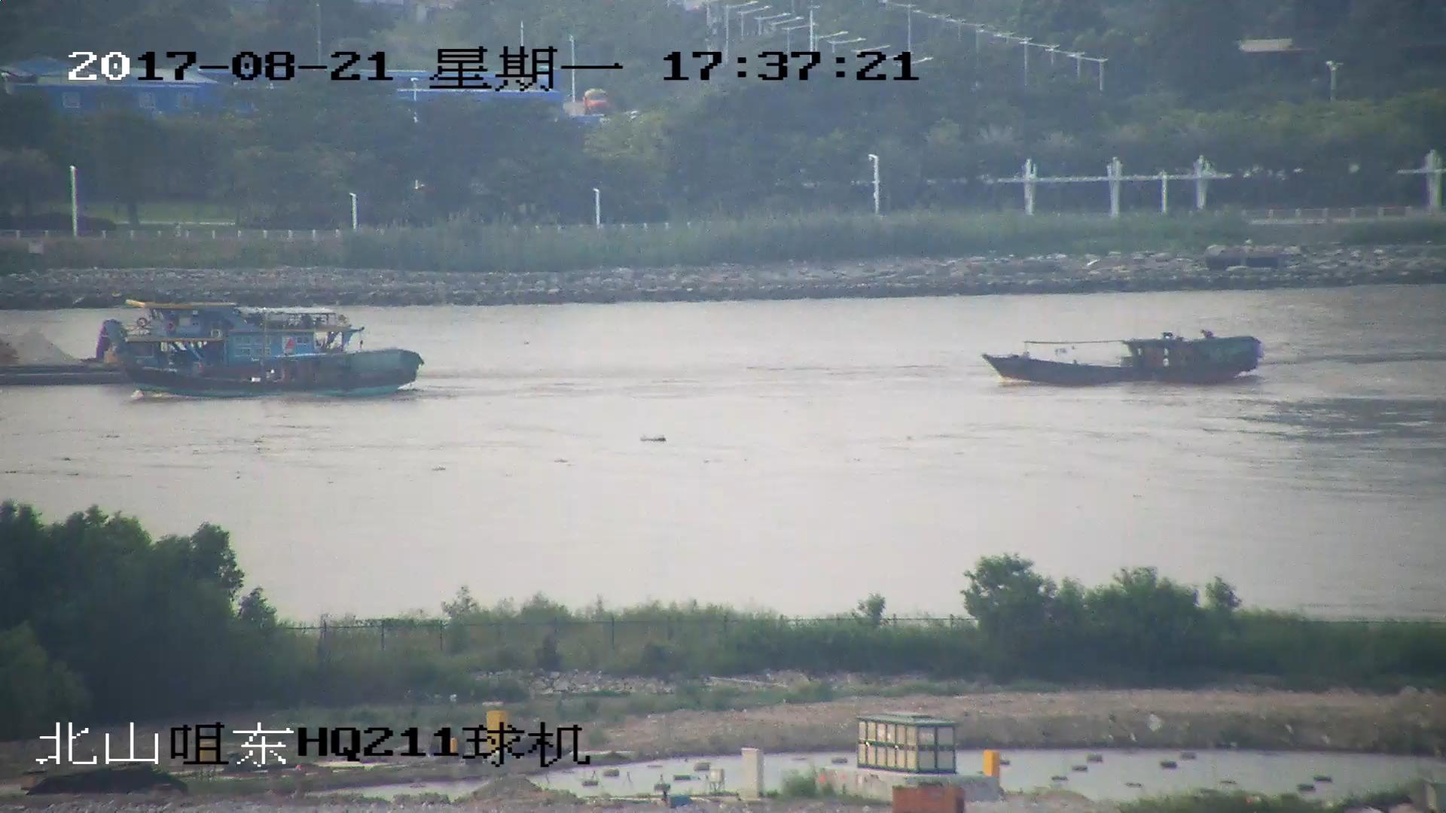fishing boat: (124, 319, 423, 398), (984, 332, 1264, 382)
ore carrier: (0, 298, 335, 370)
